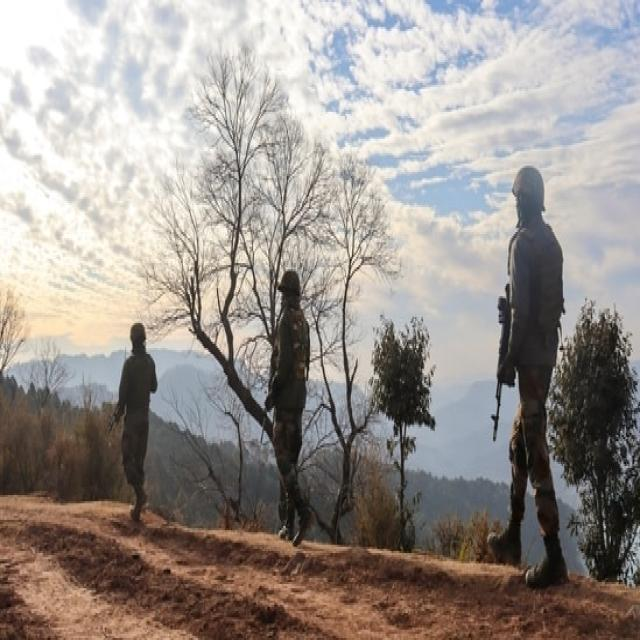Forest: (0, 0, 640, 640)
Militant: (481, 152, 600, 604), (241, 257, 331, 563), (96, 301, 172, 549)
